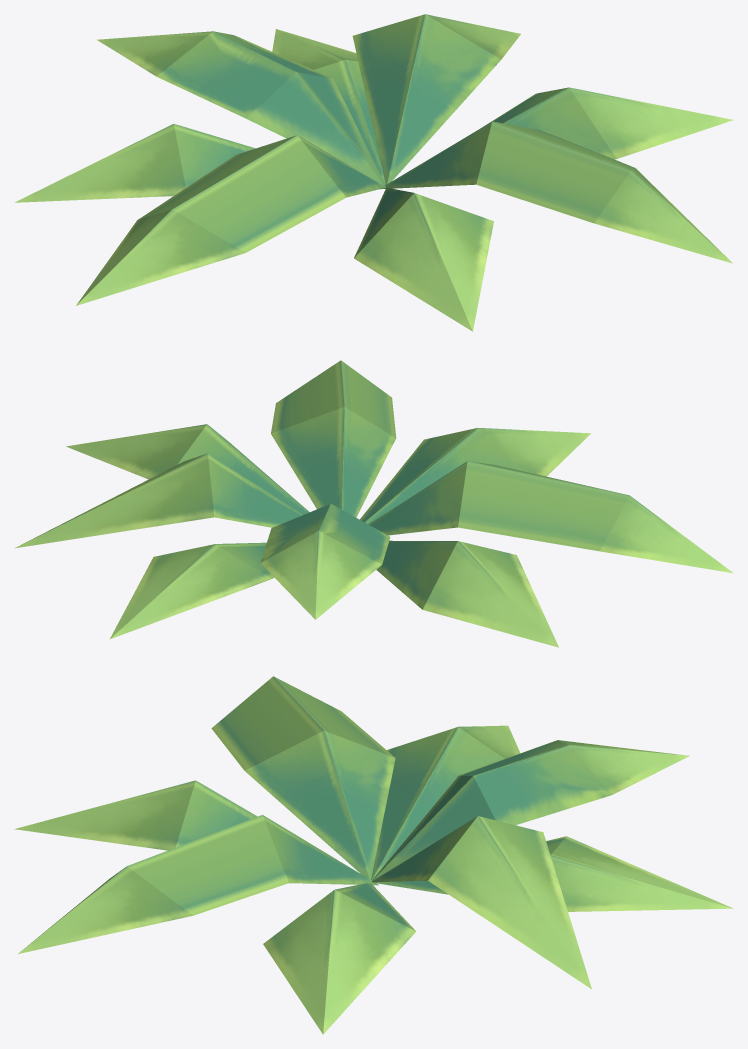
The model's file is Weed4.FBX.
3 renders of one model, top to bottom at view 1: azimuth 30°, elevation 25°; view 2: azimuth 150°, elevation 25°; view 3: azimuth 270°, elevation 25°, orthographic. The views are drawn at different scales.
Visible parts, largest first — view 1: Object109; view 2: Object109; view 3: Object109.
Part boxes in pixels (x1,y1,x2,y2): Object109: [15, 14, 732, 331]; Object109: [15, 360, 733, 647]; Object109: [14, 676, 733, 1034].
Bounding box in the file's own units: 32.15 × 5.15 × 28.96.
